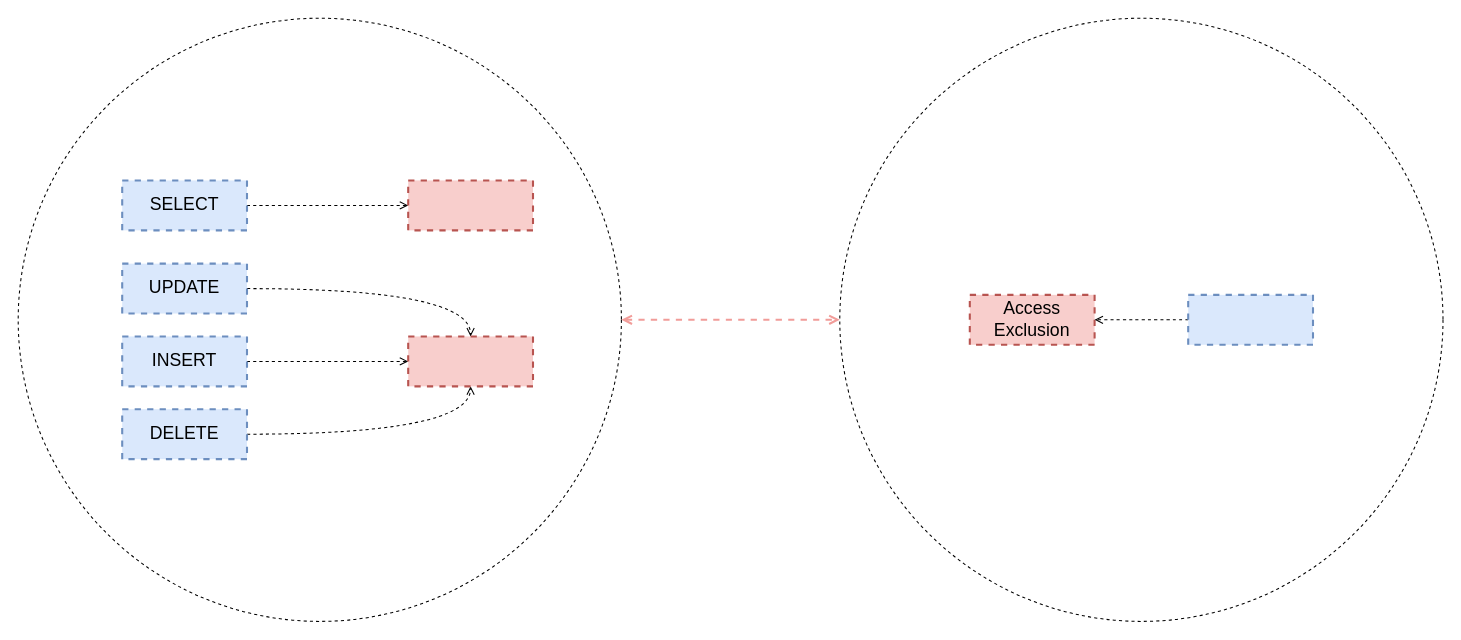
Image size: 1461x640. Some labels were removed from this diagram. The shapes that lost their labels are listed below. From the top down, each one's centre as x and y in pixels, then its label:
pixel 470 205: Row Share
pixel 1250 319: Alter Table
pixel 470 361: Row Exclusive
